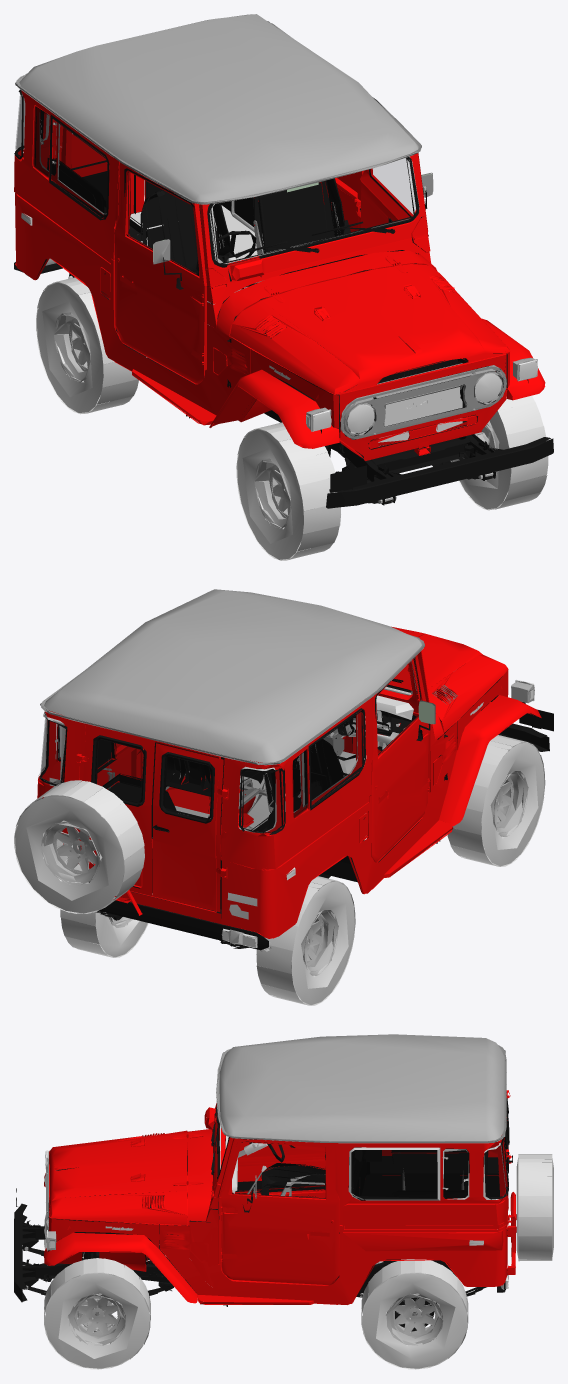
The model's file is landcruiser_hi.glb.
The picture shows the model from 3 angles, top to bottom: view 1: azimuth 30°, elevation 25°; view 2: azimuth 150°, elevation 25°; view 3: azimuth 270°, elevation 25°; orthographic projection. The views are drawn at different scales.
Visible parts, largest first — view 1: Mesh_0124.rip_mat0.028_0.002; view 2: Mesh_0124.rip_mat0.028_0.002; view 3: Mesh_0124.rip_mat0.028_0.002.
Boxes of the visible parts, left/top/right/bottom form: Mesh_0124.rip_mat0.028_0.002: left=14, top=14, right=553, bottom=560; Mesh_0124.rip_mat0.028_0.002: left=14, top=589, right=553, bottom=1005; Mesh_0124.rip_mat0.028_0.002: left=14, top=1034, right=553, bottom=1369.
Size of the model in its own units: 1.82 by 1.96 by 3.84.
